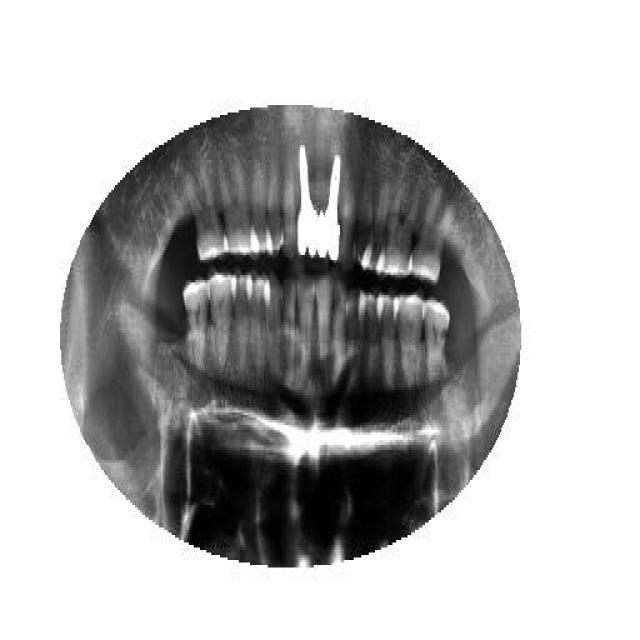Implant: (296, 150, 320, 258), (318, 150, 340, 262)
